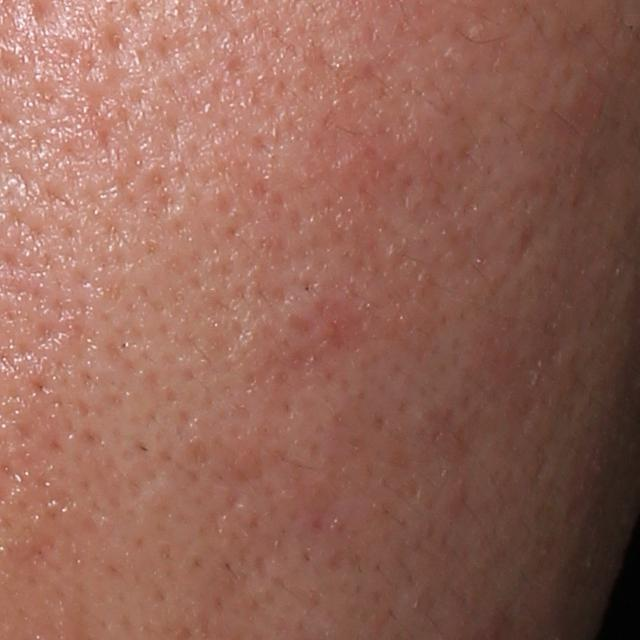atrophic_scar: (101, 17, 139, 65), (518, 222, 540, 262)
